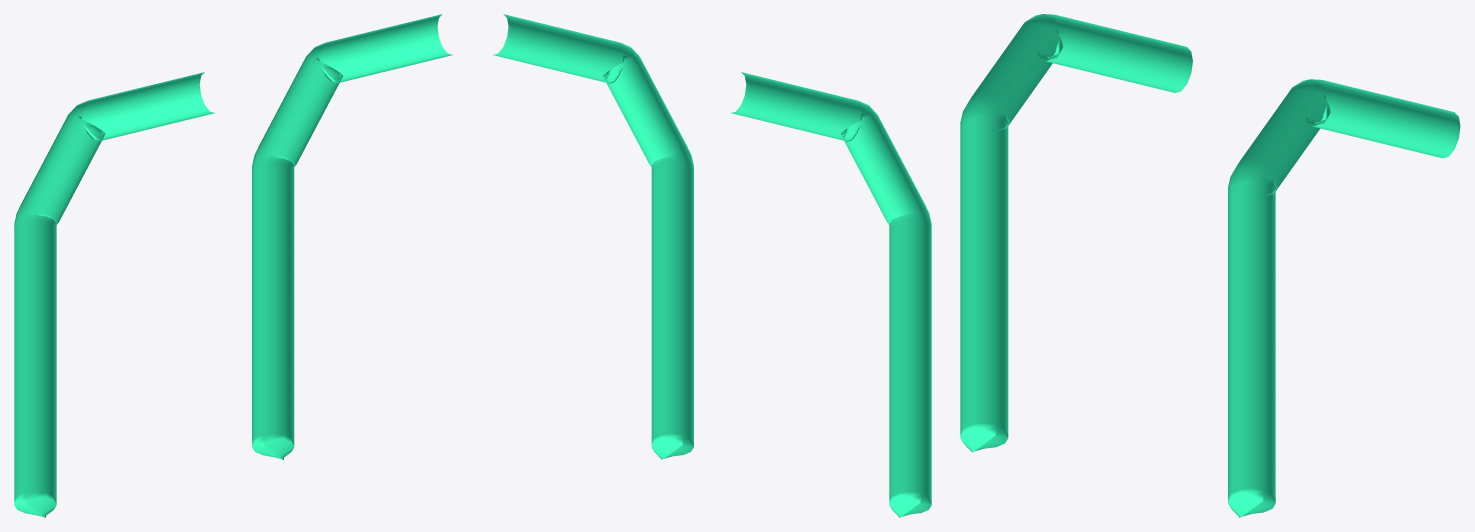
The picture shows the model from 3 angles, left to right: view 1: azimuth 30°, elevation 25°; view 2: azimuth 150°, elevation 25°; view 3: azimuth 330°, elevation 25°; orthographic projection. The views are drawn at different scales.
Visible parts, largest first — view 1: MorphMesh; view 2: MorphMesh; view 3: MorphMesh.
Part boxes in pixels (left/top/right/bottom): MorphMesh: left=14, top=14, right=452, bottom=517; MorphMesh: left=493, top=14, right=931, bottom=517; MorphMesh: left=960, top=14, right=1460, bottom=517.
Size of the model in its own units: 2.46 by 2.15 by 0.21.
